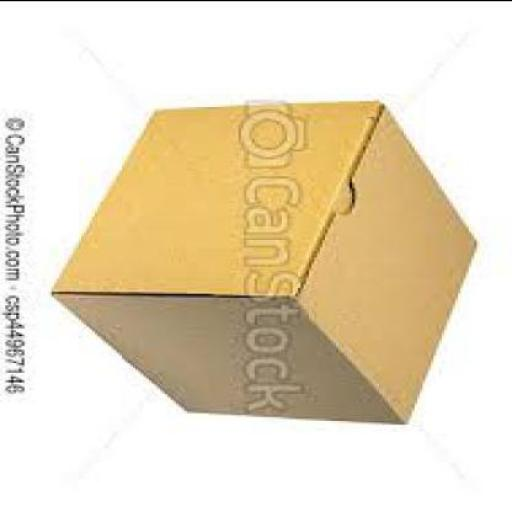cardboard: (54, 98, 483, 424)
